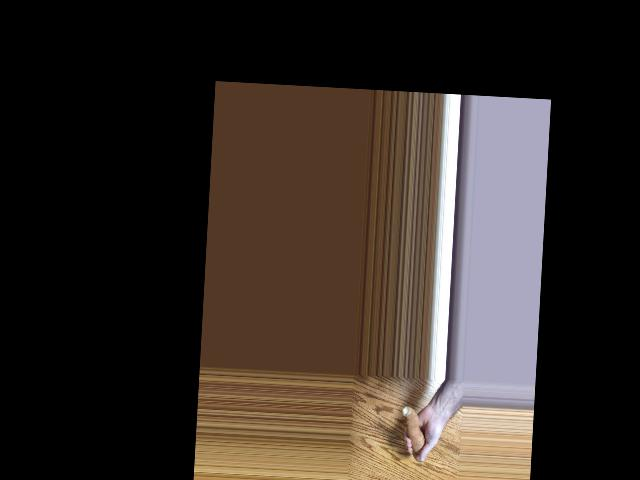sweet_potato: (400, 402, 427, 464)
